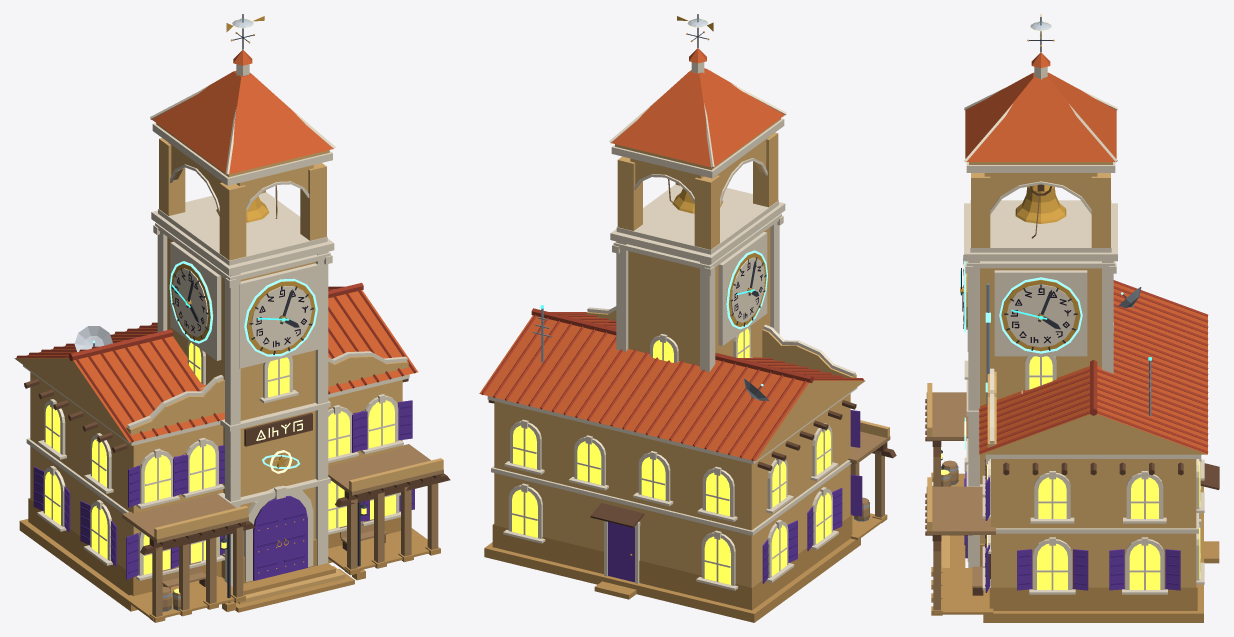
File: Bldg_TownHall.fbx
The picture shows the model from 3 angles, left to right: view 1: azimuth 30°, elevation 25°; view 2: azimuth 150°, elevation 25°; view 3: azimuth 270°, elevation 25°; orthographic projection. The views are drawn at different scales.
Visible parts, largest first — view 1: Bldg_TownHall_Body, Bldg_TownHall_Door_L, Bldg_TownHall_Door_R; view 2: Bldg_TownHall_Body; view 3: Bldg_TownHall_Body, Bldg_TownHall_Bell.
Part boxes in pixels (left/top/right/bottom): Bldg_TownHall_Body: left=14, top=50, right=450, bottom=622; Bldg_TownHall_Door_L: left=253, top=498, right=281, bottom=580; Bldg_TownHall_Door_R: left=281, top=495, right=307, bottom=574; Bldg_TownHall_Body: left=479, top=48, right=896, bottom=622; Bldg_TownHall_Body: left=925, top=52, right=1219, bottom=622; Bldg_TownHall_Bell: left=1015, top=185, right=1066, bottom=223.
Size of the model in its own units: 13.7 by 23.24 by 11.46.
